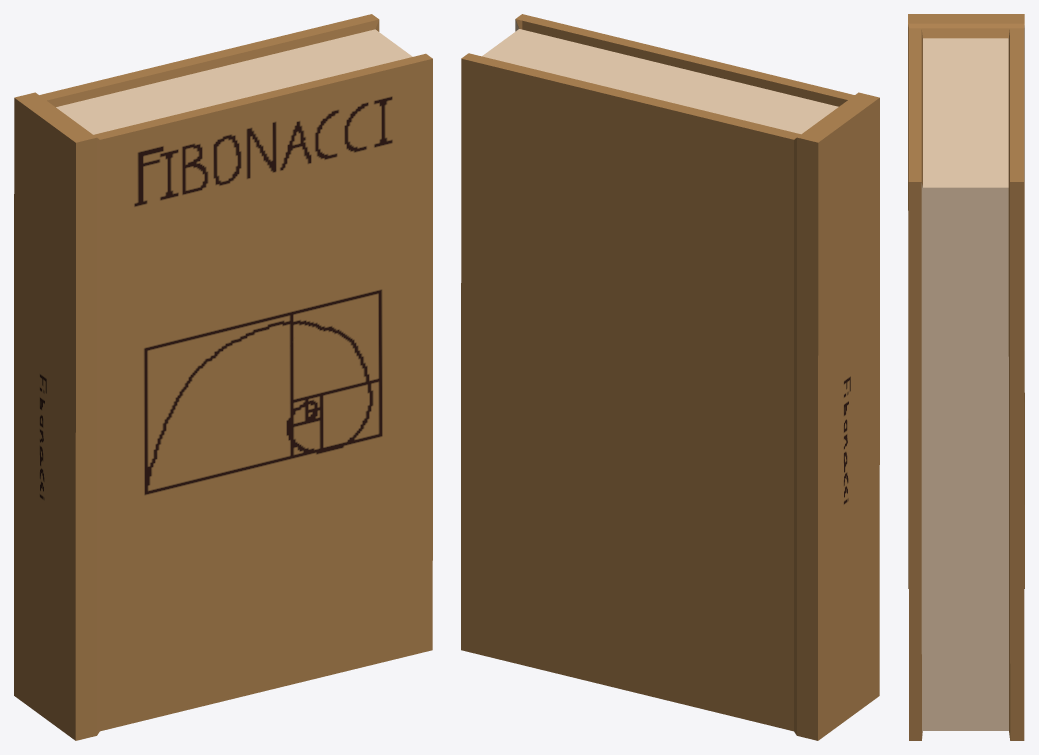
Rendered from booktest.fbx.
3 views of the same model, side by side, from view 1: azimuth 30°, elevation 25°; view 2: azimuth 150°, elevation 25°; view 3: azimuth 270°, elevation 25° (orthographic). The views are drawn at different scales.
Visible parts, largest first — view 1: Cube.007; view 2: Cube.007; view 3: Cube.007.
Part boxes in pixels (bbox=[...]): Cube.007: bbox=[14, 14, 432, 740]; Cube.007: bbox=[461, 14, 879, 740]; Cube.007: bbox=[908, 14, 1024, 740].
Size of the model in its own units: 22.87 by 36.59 by 6.85.
